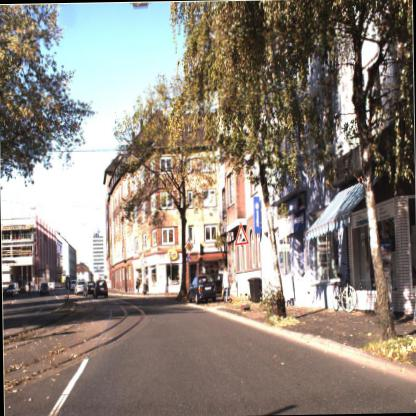danger: (230, 221, 248, 251)
other: (182, 232, 194, 254)
